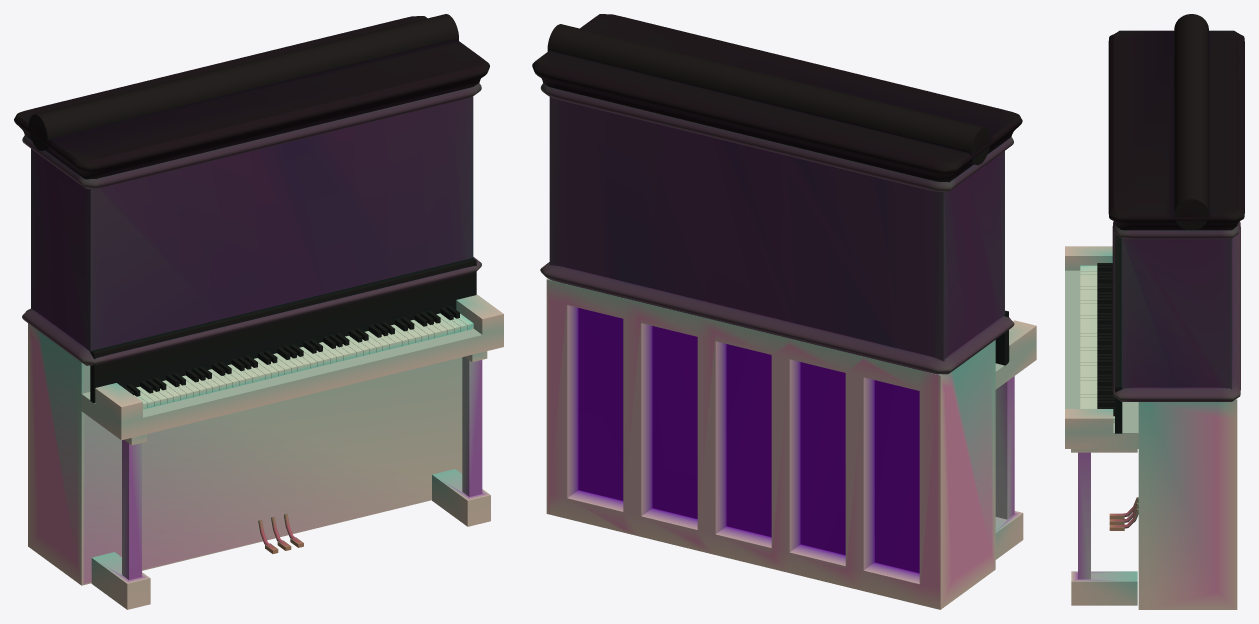
3 renders of one model, left to right at view 1: azimuth 30°, elevation 25°; view 2: azimuth 150°, elevation 25°; view 3: azimuth 270°, elevation 25°, orthographic. The views are drawn at different scales.
Visible parts, largest first — view 1: upper_panel, lower_front, stepped_lid, fallboard, key_shelf, foot.001, foot, key_cheek.001, key_cheek; view 2: lower_front, upper_panel, stepped_lid, foot, key_cheek.001, key_shelf; view 3: stepped_lid, upper_panel, lower_front, foot.001, key_shelf, fallboard, key_cheek, key_cheek.001.
Part boxes in pixels (x1=…): upper_panel: x1=22, y1=83, x2=481, y2=365; lower_front: x1=28, y1=323, x2=462, y2=585; stepped_lid: x1=14, y1=14, x2=489, y2=179; fallboard: x1=90, y1=258, x2=476, y2=402; key_shelf: x1=81, y1=329, x2=503, y2=440; foot.001: x1=432, y1=351, x2=490, y2=526; foot: x1=91, y1=434, x2=150, y2=609; key_cheek.001: x1=95, y1=383, x2=142, y2=423; key_cheek: x1=456, y1=295, x2=503, y2=335; lower_front: x1=546, y1=278, x2=995, y2=609; upper_panel: x1=540, y1=83, x2=1014, y2=374; stepped_lid: x1=532, y1=14, x2=1022, y2=182; foot: x1=995, y1=376, x2=1023, y2=559; key_cheek.001: x1=1009, y1=320, x2=1036, y2=361; key_shelf: x1=995, y1=342, x2=1036, y2=389; stepped_lid: x1=1108, y1=14, x2=1244, y2=230; upper_panel: x1=1112, y1=221, x2=1240, y2=401; lower_front: x1=1138, y1=398, x2=1237, y2=609; foot.001: x1=1071, y1=449, x2=1137, y2=605; key_shelf: x1=1065, y1=270, x2=1138, y2=448; fallboard: x1=1115, y1=234, x2=1122, y2=433; key_cheek: x1=1065, y1=409, x2=1113, y2=433; key_cheek.001: x1=1065, y1=246, x2=1112, y2=270.
Size of the model in its own units: 1.42 by 1.49 by 0.5828.
